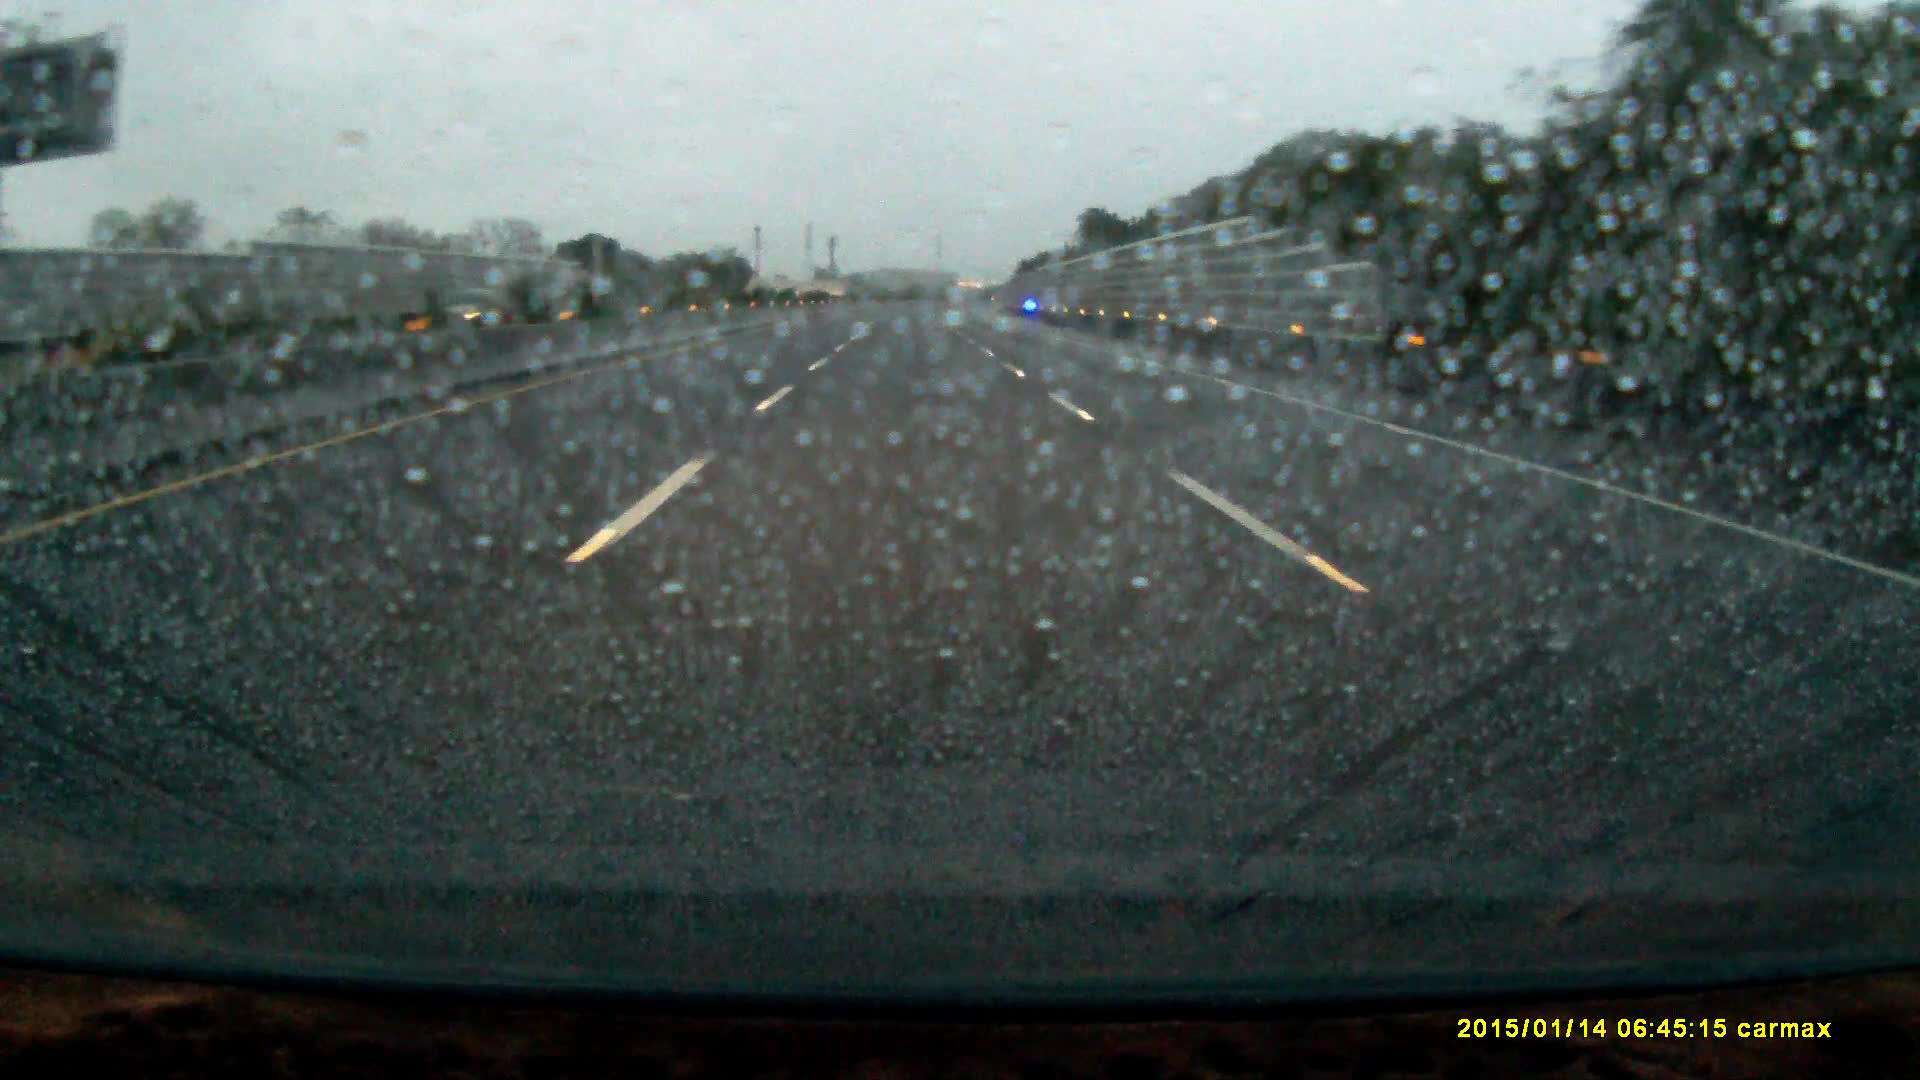vehicle: (429, 286, 498, 323)
